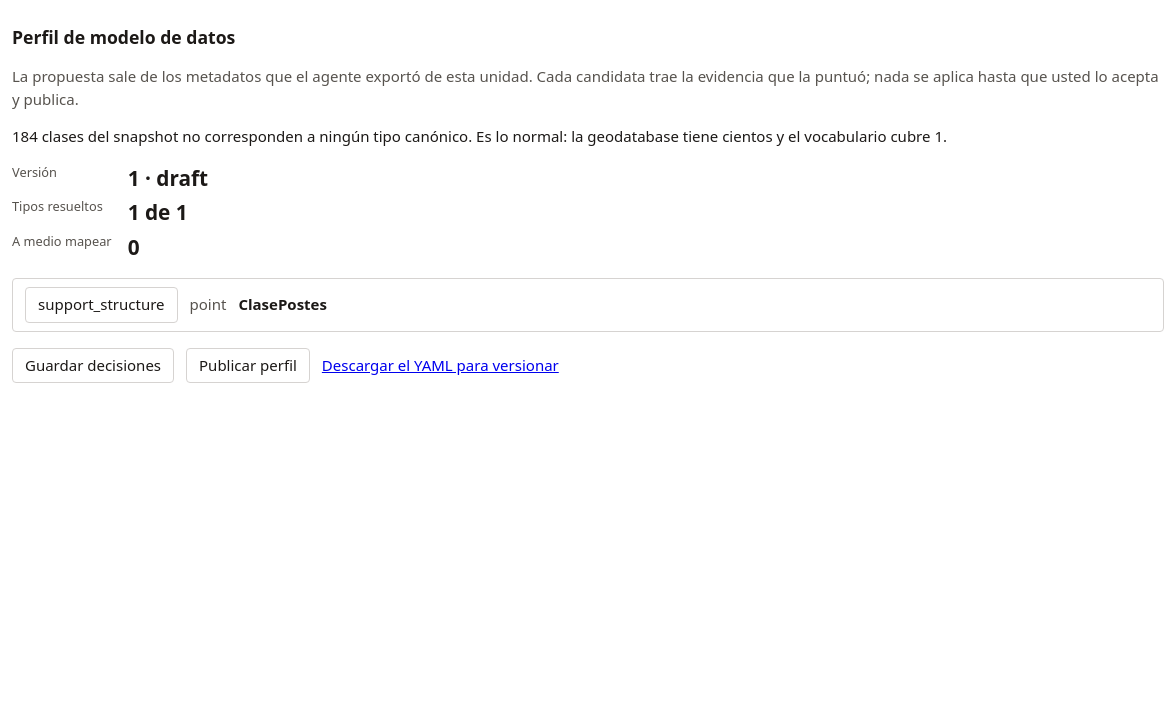
Scenario: cambiar de clase › reevalúa los atributos contra la clase elegida y suelta los de la rechazada
This screenshot has width=1164, height=720.
Step 1. Click the button "support_structure" → (101, 305), box [25, 287, 178, 322]
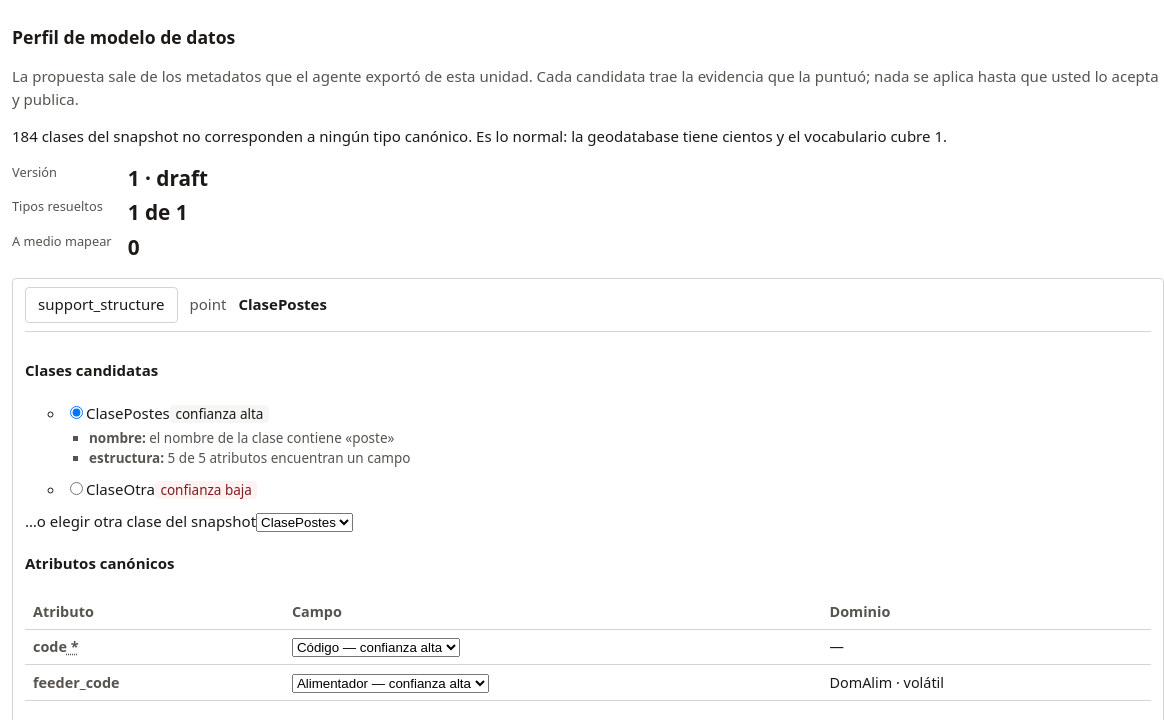
Step 2. Click the radio button labelled "ClaseOtra" → (76, 488), box [70, 482, 83, 495]
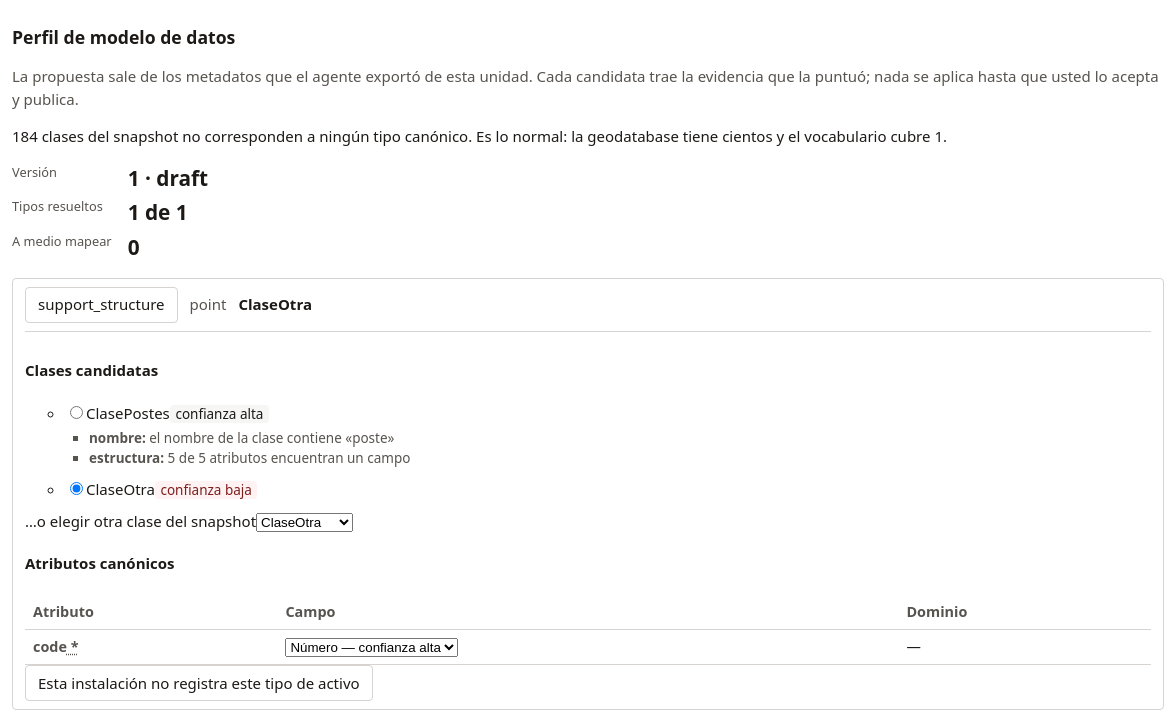
Expected: the option "Código" is not shown
Now the dropdown showing "Número" is shown, box [285, 638, 458, 657]
